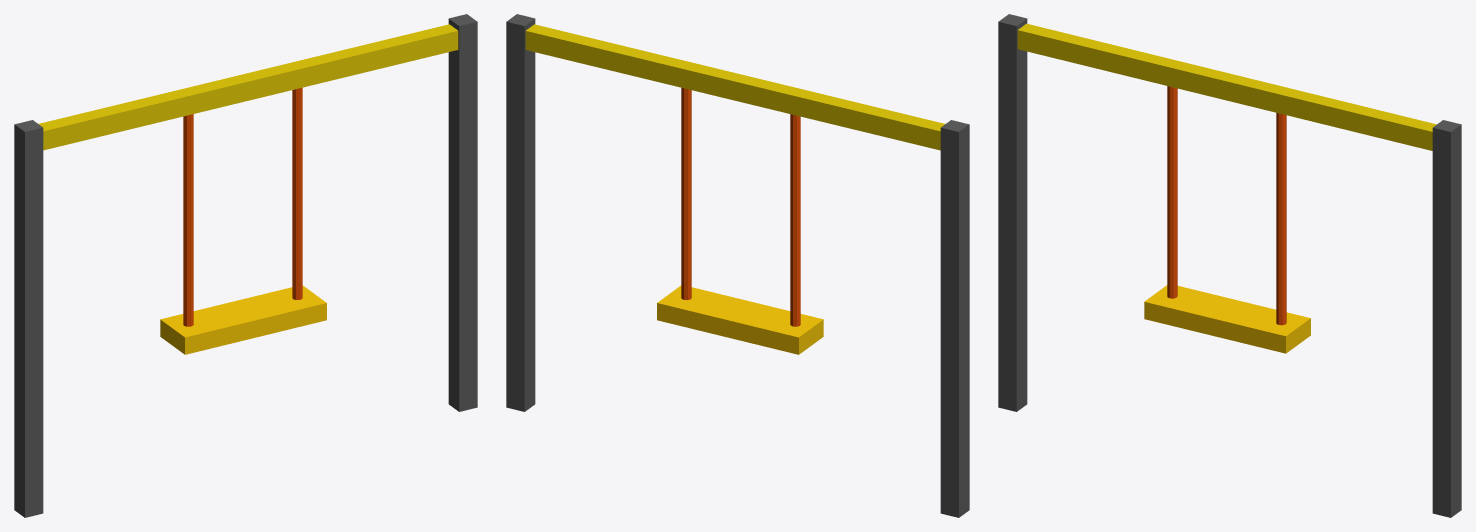
File: swing.glb
3 renders of one model, left to right at view 1: azimuth 30°, elevation 25°; view 2: azimuth 150°, elevation 25°; view 3: azimuth 330°, elevation 25°, orthographic.
Parts seen in each view (by area): view 1: Frame_Top, Frame_Right, Frame_Left, Seat, Rope; view 2: Frame_Top, Frame_Right, Frame_Left, Seat, Rope; view 3: Frame_Top, Frame_Left, Frame_Right, Seat, Rope.
Boxes of the visible parts, x1=… form: Frame_Top: x1=39, y1=24, x2=458, y2=150; Frame_Right: x1=14, y1=120, x2=43, y2=517; Frame_Left: x1=448, y1=14, x2=477, y2=411; Seat: x1=160, y1=285, x2=326, y2=354; Rope: x1=183, y1=87, x2=302, y2=326; Frame_Top: x1=525, y1=24, x2=944, y2=150; Frame_Right: x1=940, y1=120, x2=969, y2=517; Frame_Left: x1=506, y1=14, x2=535, y2=411; Seat: x1=657, y1=285, x2=823, y2=354; Rope: x1=681, y1=87, x2=800, y2=326; Frame_Top: x1=1017, y1=23, x2=1436, y2=150; Frame_Left: x1=1432, y1=120, x2=1461, y2=517; Frame_Right: x1=998, y1=14, x2=1027, y2=411; Seat: x1=1144, y1=285, x2=1310, y2=353; Rope: x1=1167, y1=86, x2=1286, y2=325.
Size of the model in its own units: 21.06 by 17.16 by 2.
